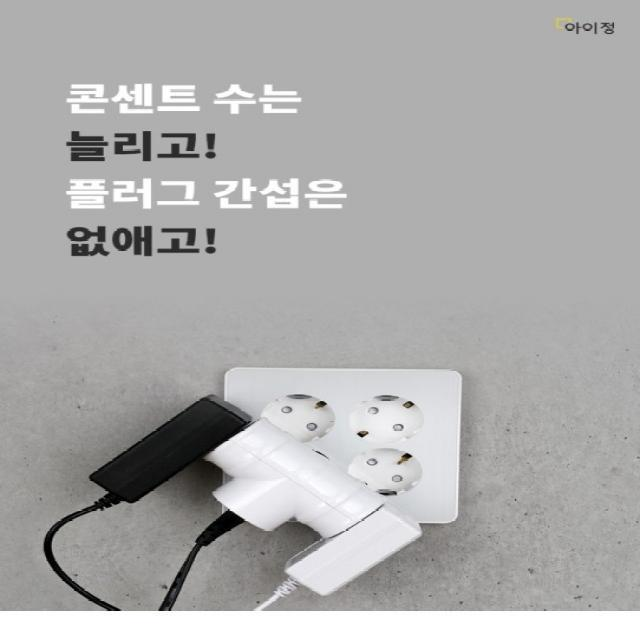typeb: (225, 361, 508, 518)
